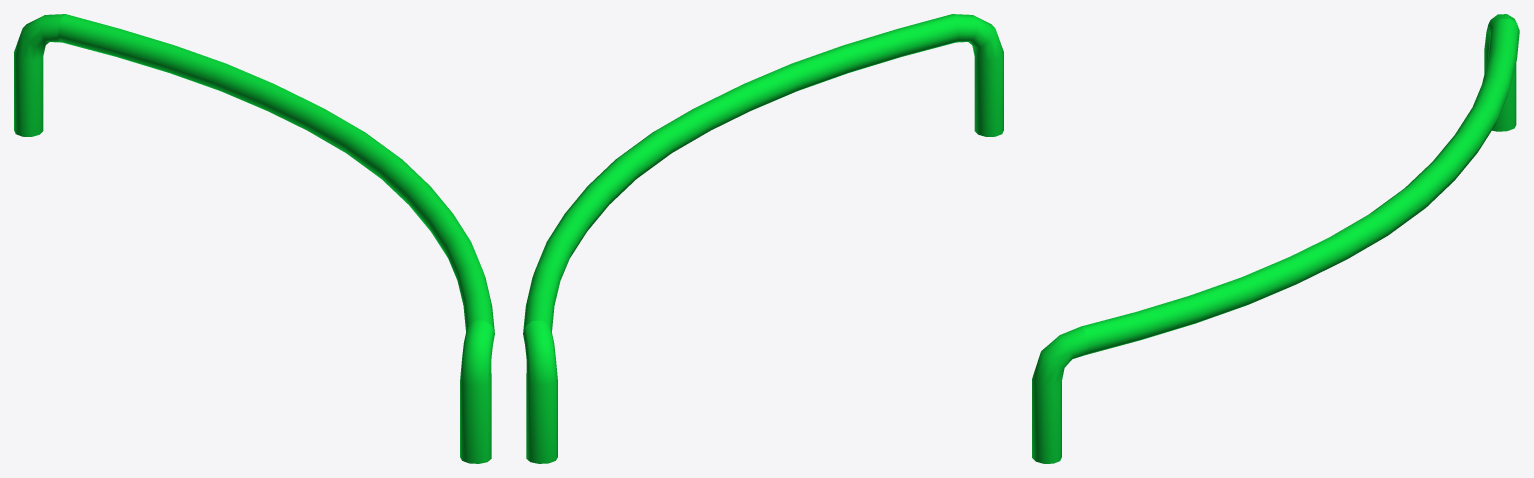
Rendered from Fence_01_C.fbx.
The picture shows the model from 3 angles, left to right: view 1: azimuth 30°, elevation 25°; view 2: azimuth 150°, elevation 25°; view 3: azimuth 330°, elevation 25°; orthographic projection.
Parts seen in each view (by area): view 1: Fence_01_C; view 2: Fence_01_C; view 3: Fence_01_C.
Boxes of the visible parts, <box> form: Fence_01_C: <box>14,14,494,463</box>; Fence_01_C: <box>523,14,1003,463</box>; Fence_01_C: <box>1032,14,1519,463</box>.
Bounding box in the file's own units: 2.9 × 2.28 × 15.75.
